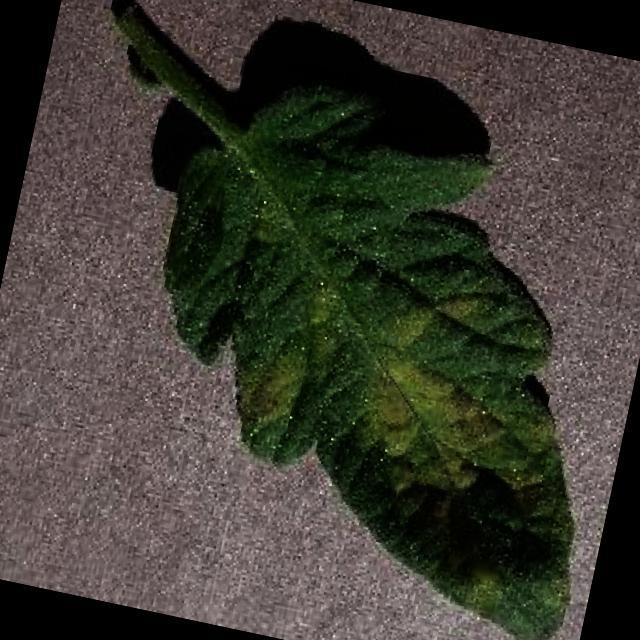Tomato healthy leaf: (96, 56, 640, 640)
